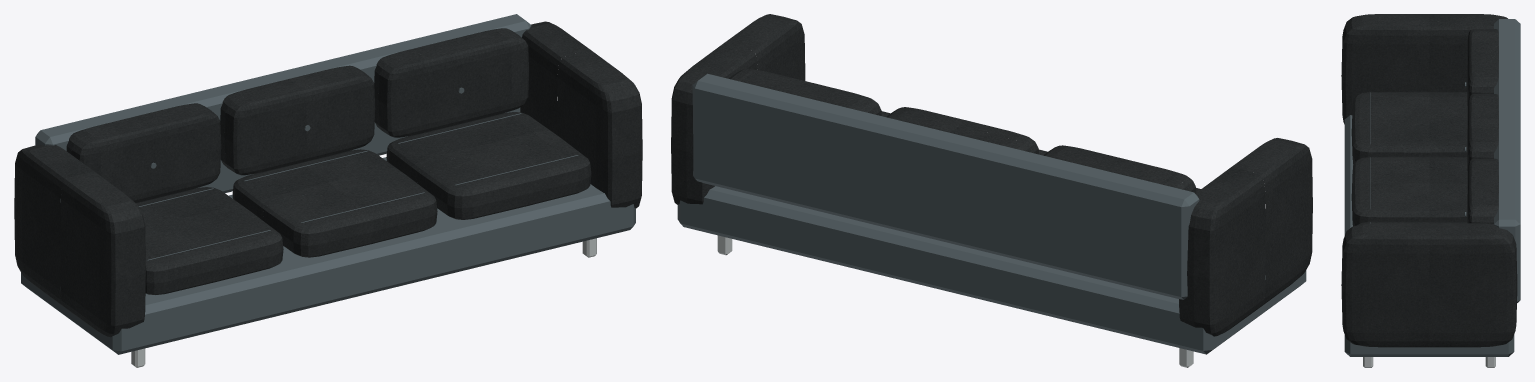
Rendered from Sofa.glb.
3 renders of one model, left to right at view 1: azimuth 30°, elevation 25°; view 2: azimuth 150°, elevation 25°; view 3: azimuth 270°, elevation 25°, orthographic. The views are drawn at different scales.
Visible parts, largest first — view 1: Sofa__BlackLeather__mesh, Sofa__BlackenedSteel__mesh, Sofa__BrushedHardware__mesh; view 2: Sofa__BlackenedSteel__mesh, Sofa__BlackLeather__mesh, Sofa__BrushedHardware__mesh; view 3: Sofa__BlackLeather__mesh, Sofa__BlackenedSteel__mesh, Sofa__BrushedHardware__mesh.
Boxes of the visible parts, bbox=[...] form: Sofa__BlackLeather__mesh: bbox=[14, 21, 642, 337]; Sofa__BlackenedSteel__mesh: bbox=[21, 14, 635, 354]; Sofa__BrushedHardware__mesh: bbox=[131, 238, 596, 367]; Sofa__BlackenedSteel__mesh: bbox=[677, 73, 1306, 354]; Sofa__BlackLeather__mesh: bbox=[671, 14, 1312, 336]; Sofa__BrushedHardware__mesh: bbox=[717, 235, 1193, 367]; Sofa__BlackLeather__mesh: bbox=[1341, 14, 1517, 347]; Sofa__BlackenedSteel__mesh: bbox=[1344, 19, 1520, 356]; Sofa__BrushedHardware__mesh: bbox=[1363, 357, 1495, 367].
Bounding box in the file's own units: 2.61 × 0.825 × 0.875.
Materials: 3 (1 with a texture image).
